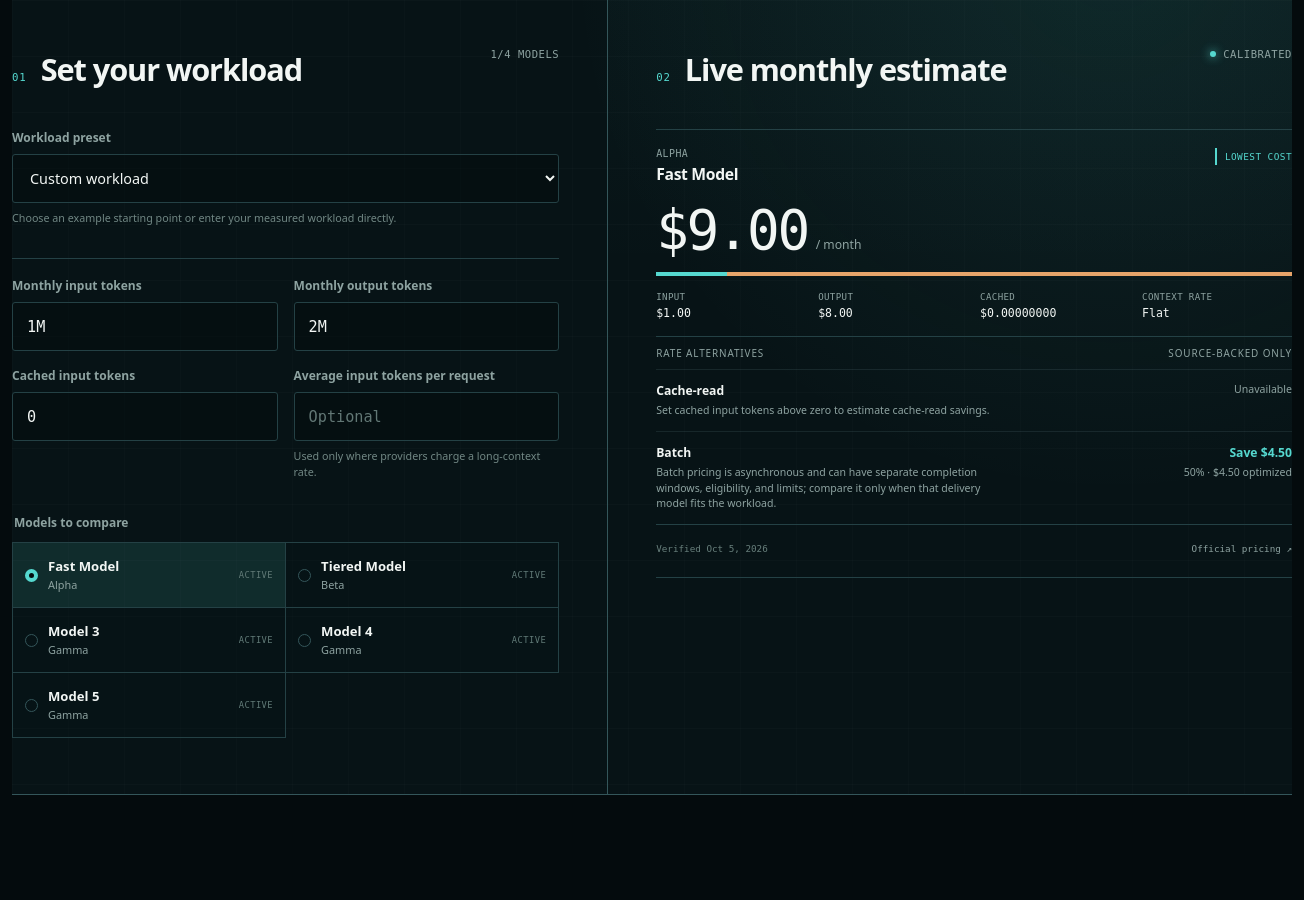
Test: Calculator › recalculates visible cost when workload changes
The width and height of the screenshot is (1304, 900).
Check: the text "$9.00" is shown, box [656, 204, 808, 258]
Replace the text in the field labelled "Monthly input tokens" with "2M": (145,326) [12, 302, 278, 351]
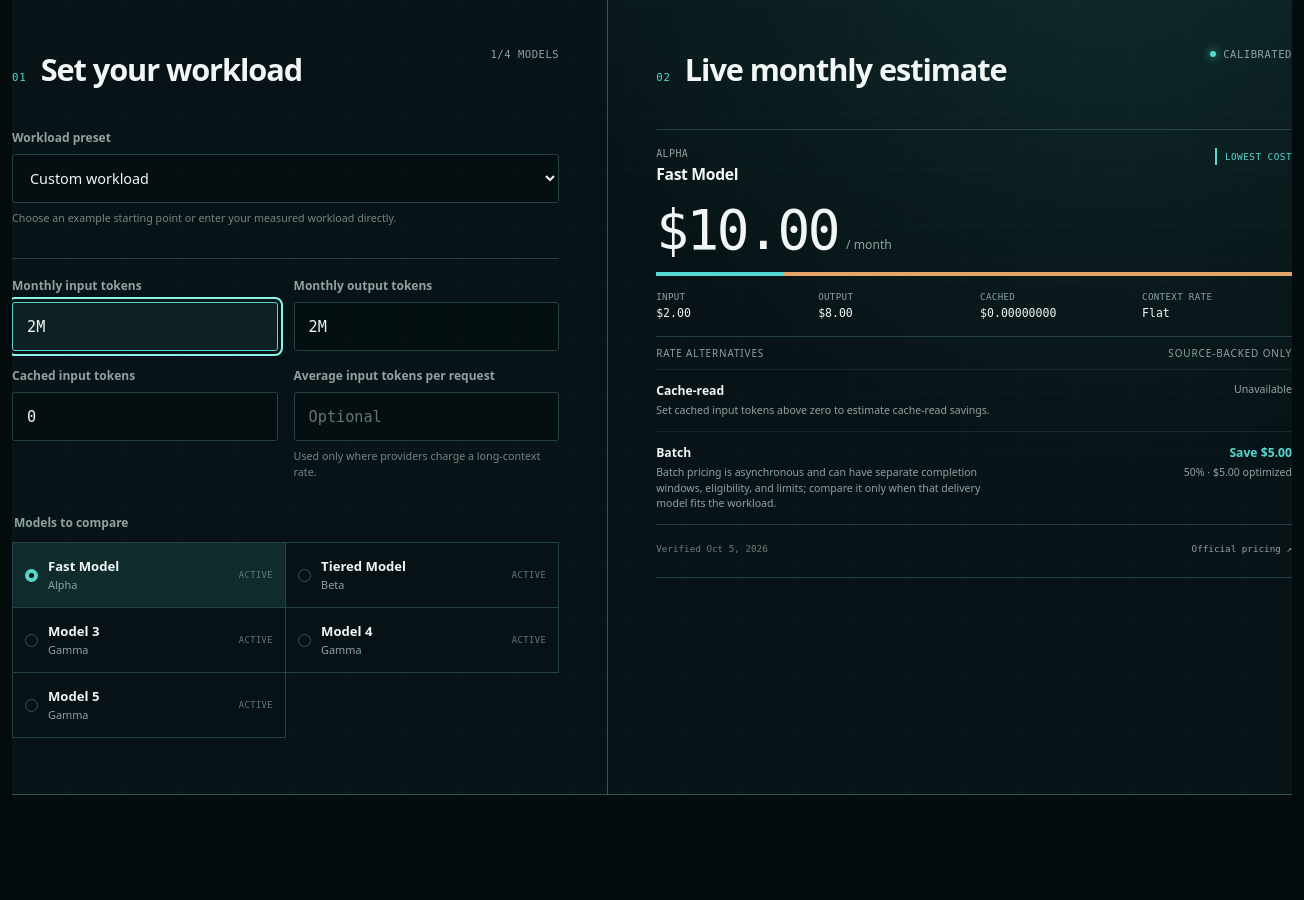
Check: the text "$10.00" is shown, box [656, 204, 838, 258]
